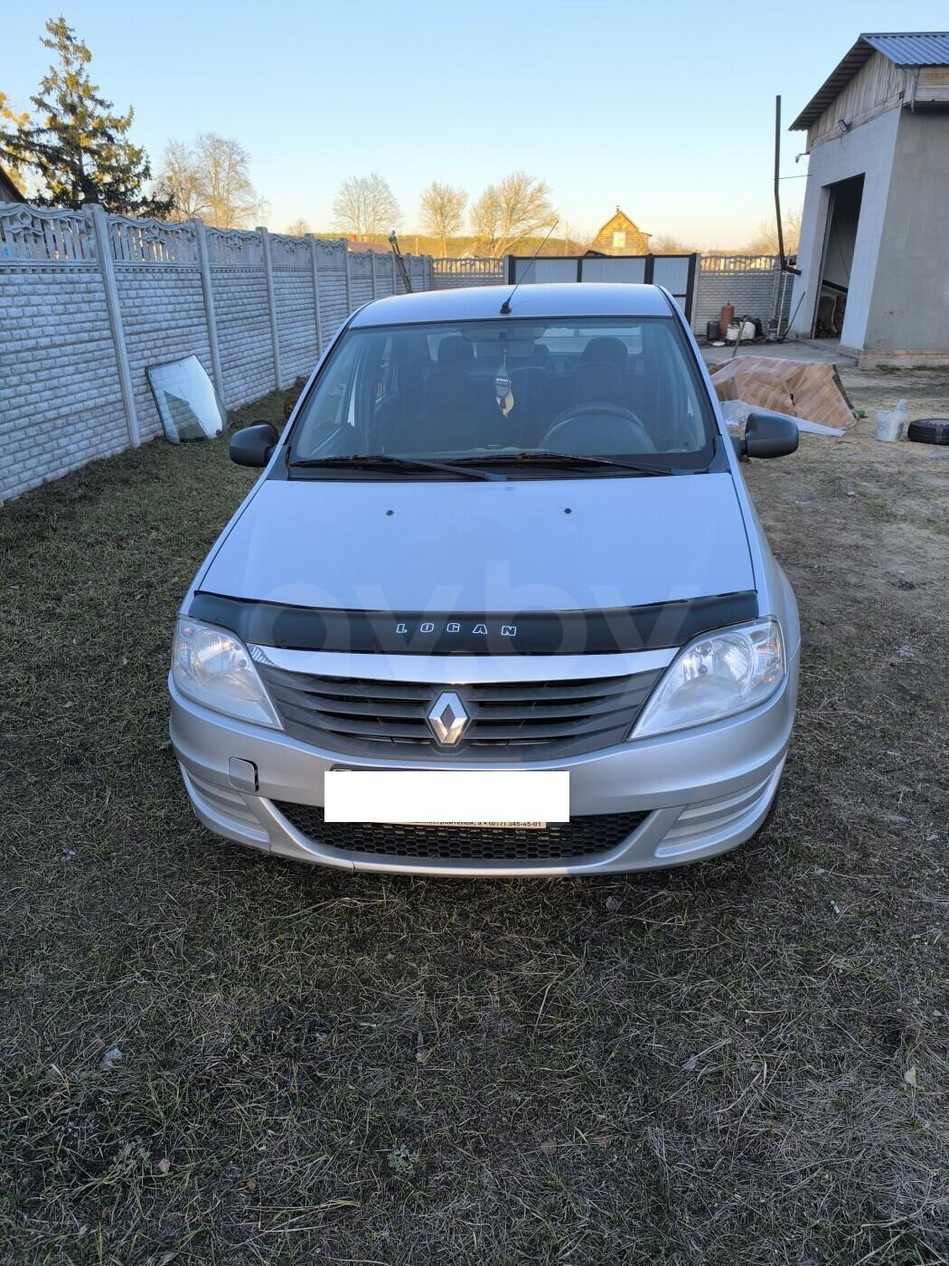Logan_2008-2015: (159, 282, 810, 888)
